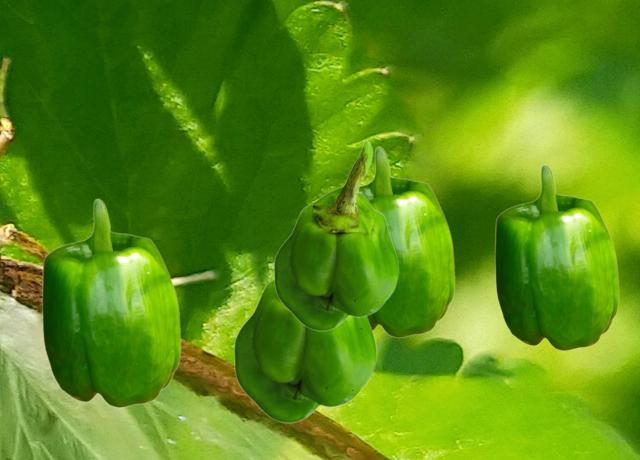bell_pepper: (41, 198, 180, 407), (273, 139, 398, 330), (494, 164, 618, 350), (233, 279, 376, 422), (360, 146, 454, 337)
